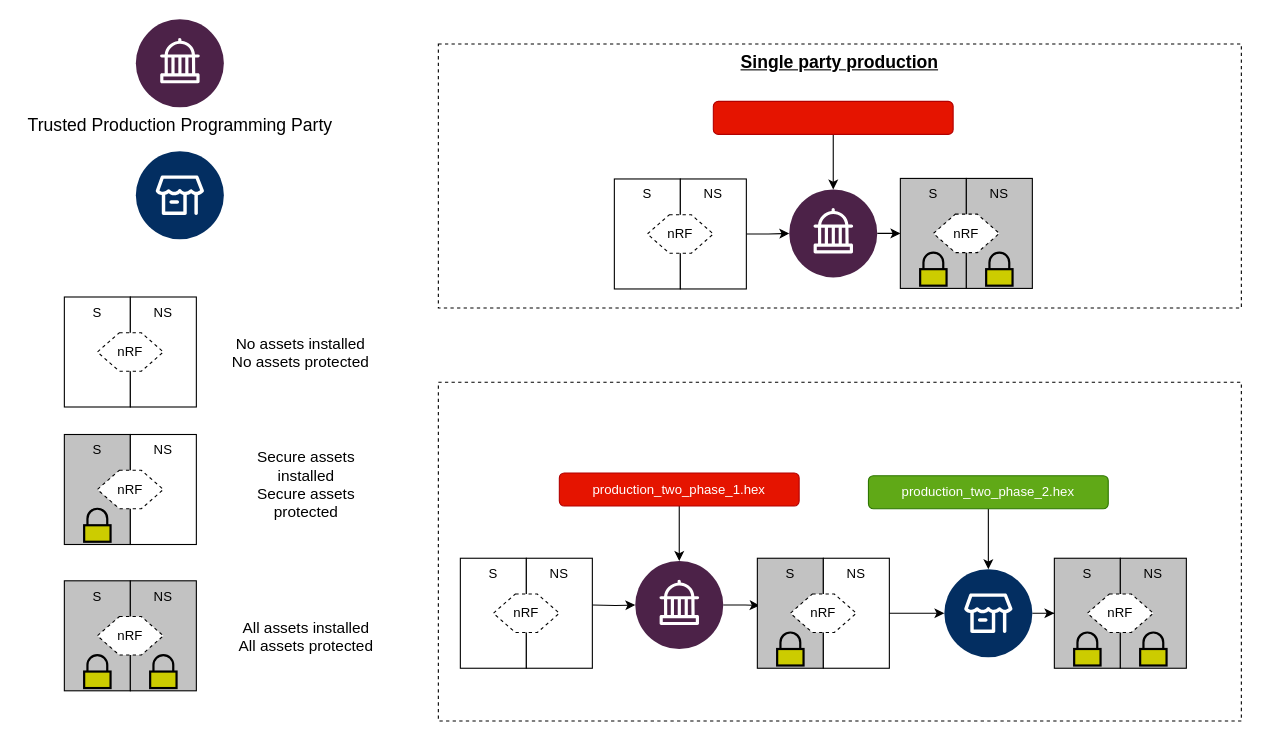
The diagram is 1261 pixels wide and 740 high, and some of its shapes have lost their labels. Here are the shapes that lost their labels. From the top down, the box of each, then its label:
(712, 100, 953, 134): production_single_phase.hex
(135, 150, 224, 239): Untrusted Production Programming Party
(437, 381, 1241, 721): Two party production
